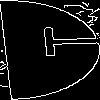T: (25, 25, 100, 58)
